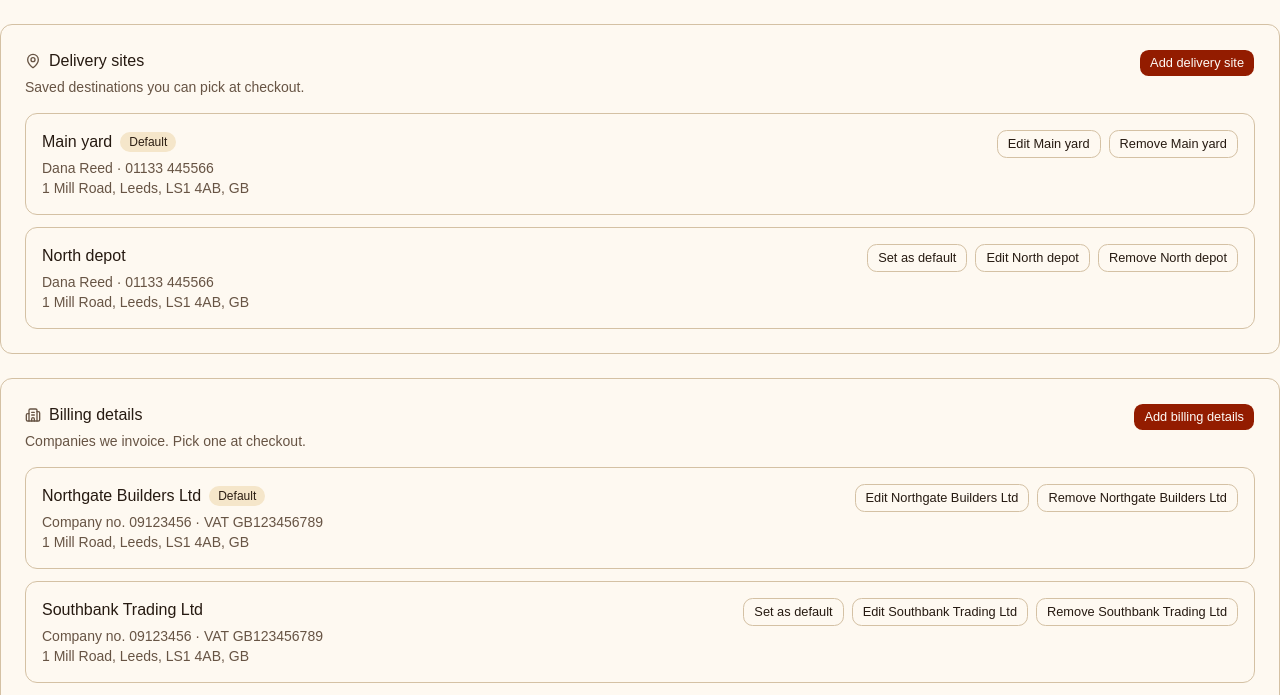
DeliverySitesSection › reports field validation messages and sends no request
Click the button "Add delivery site".
click(1197, 63)  # box [1139,49,1255,77]
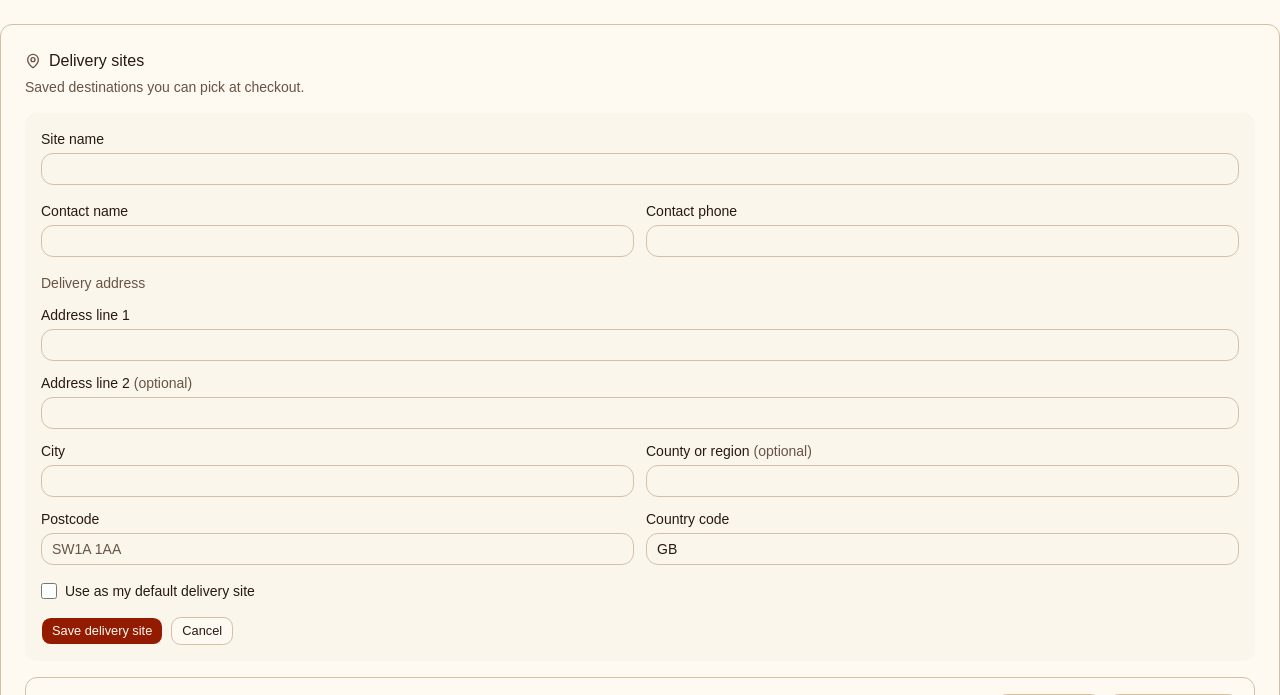
Click the button "Save delivery site".
click(102, 631)  # box [41,617,163,645]
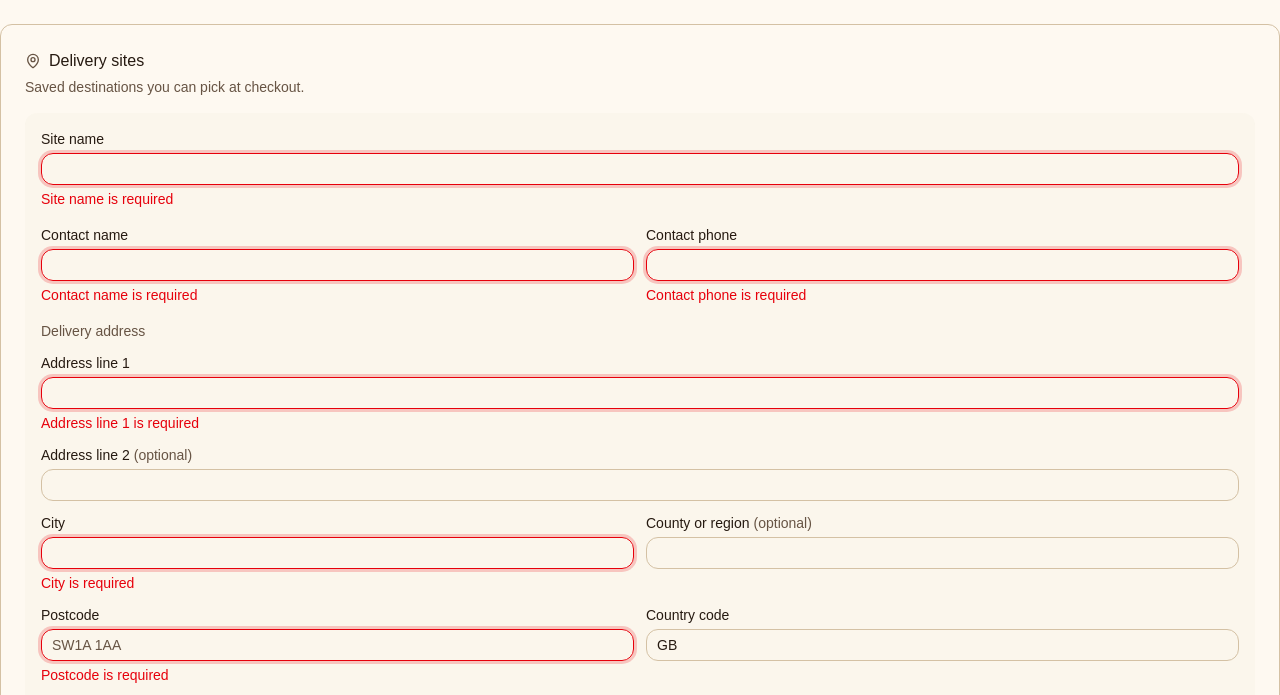
Expected: the text "Site name is required" is shown, [41,191,173,207]
Expected: the text "Contact name is required" is shown, [41,287,197,303]
Expected: the text "Contact phone is required" is shown, [646,287,806,303]
